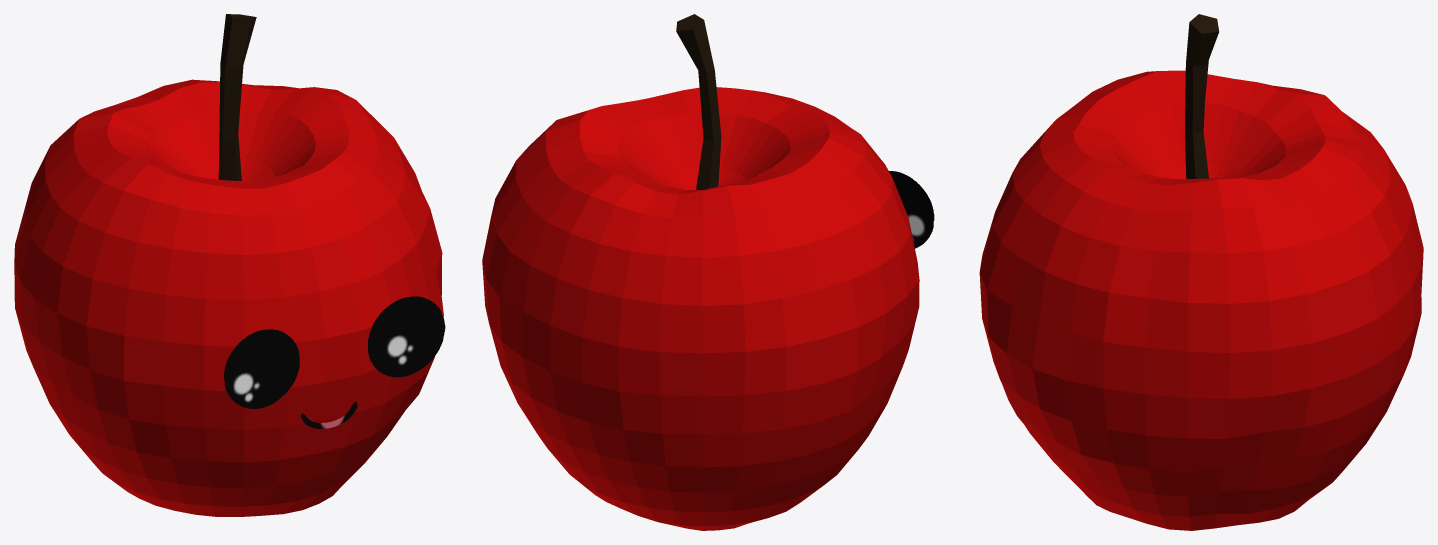
The model's file is Apple_000000.obj.
3 views of the same model, side by side, from view 1: azimuth 30°, elevation 25°; view 2: azimuth 150°, elevation 25°; view 3: azimuth 270°, elevation 25° (orthographic). The views are drawn at different scales.
Parts seen in each view (by area): view 1: Bouncing_apple.001_Cylinder.005, Plane.002_Plane.003; view 2: Bouncing_apple.001_Cylinder.005, Plane.002_Plane.003; view 3: Bouncing_apple.001_Cylinder.005.
Boxes of the visible parts, <box> form: Bouncing_apple.001_Cylinder.005: <box>14,14,443,516</box>; Plane.002_Plane.003: <box>224,296,445,428</box>; Bouncing_apple.001_Cylinder.005: <box>482,14,919,530</box>; Plane.002_Plane.003: <box>889,171,934,248</box>; Bouncing_apple.001_Cylinder.005: <box>979,14,1423,530</box>.
Size of the model in its own units: 1.86 by 2.26 by 1.89.
